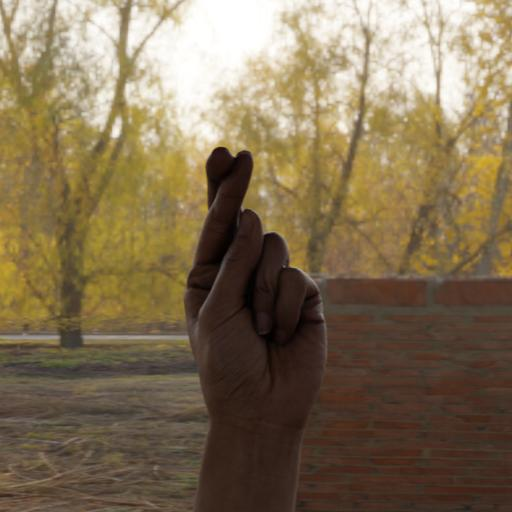R: (170, 136, 346, 464)
